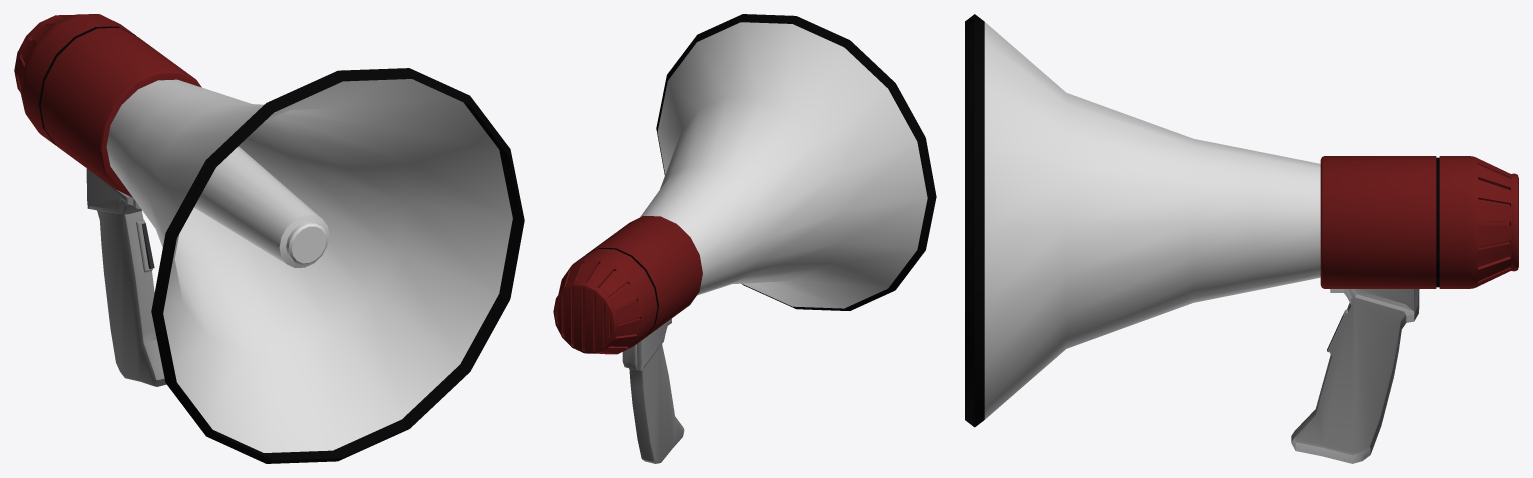
The model's file is lowpoly_megaphone.glb.
3 views of the same model, side by side, from view 1: azimuth 30°, elevation 25°; view 2: azimuth 150°, elevation 25°; view 3: azimuth 270°, elevation 25° (orthographic). The views are drawn at different scales.
Parts seen in each view (by area): view 1: Megaphone; view 2: Megaphone; view 3: Megaphone.
Part boxes in pixels (bbox=[...]): Megaphone: bbox=[14, 14, 524, 463]; Megaphone: bbox=[553, 14, 936, 463]; Megaphone: bbox=[965, 14, 1518, 463].
Bounding box in the file's own units: 3.99 × 4.58 × 5.34.
